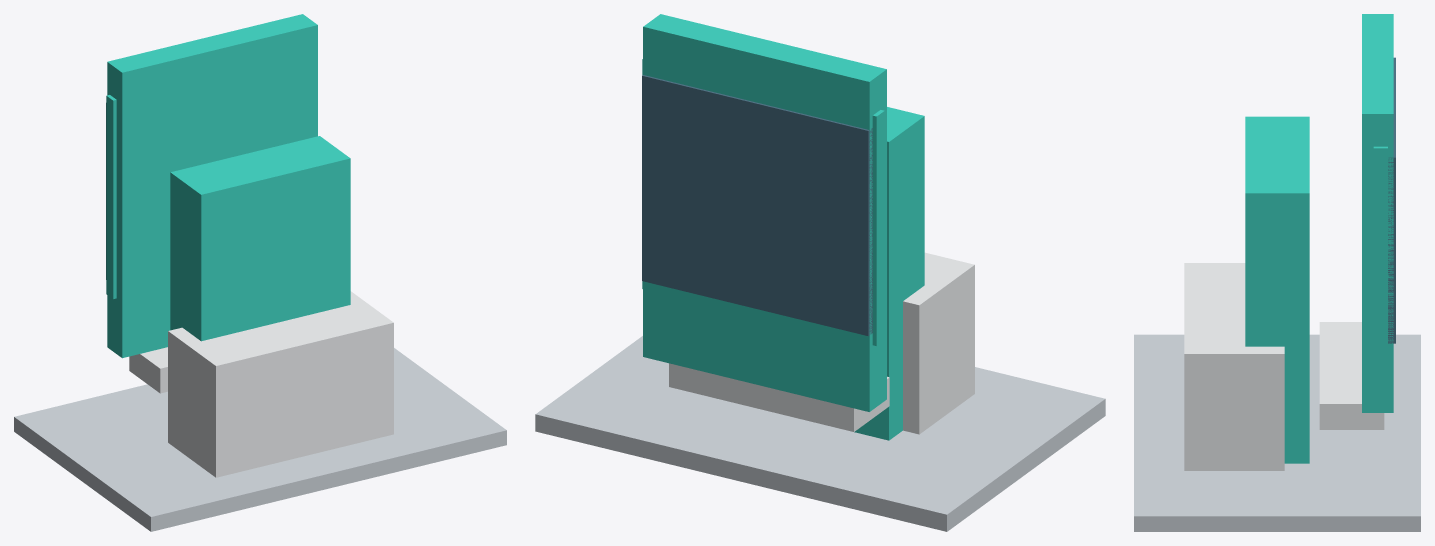
3 renders of one model, left to right at view 1: azimuth 30°, elevation 25°; view 2: azimuth 150°, elevation 25°; view 3: azimuth 270°, elevation 25°, orthographic. The views are drawn at different scales.
Visible parts, largest first — view 1: Exhibition Booth Concept; view 2: Exhibition Booth Concept; view 3: Exhibition Booth Concept.
Boxes of the visible parts, x1,y1,x2,y2 form: Exhibition Booth Concept: (14, 14, 506, 531); Exhibition Booth Concept: (535, 14, 1105, 531); Exhibition Booth Concept: (1134, 14, 1420, 531).
Size of the model in its own units: 3 by 2.9 by 2.
